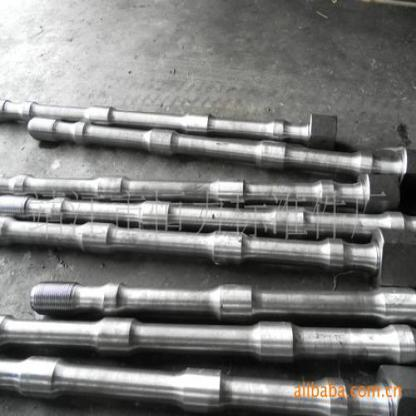FOD: (28, 113, 415, 184), (29, 277, 415, 323)
